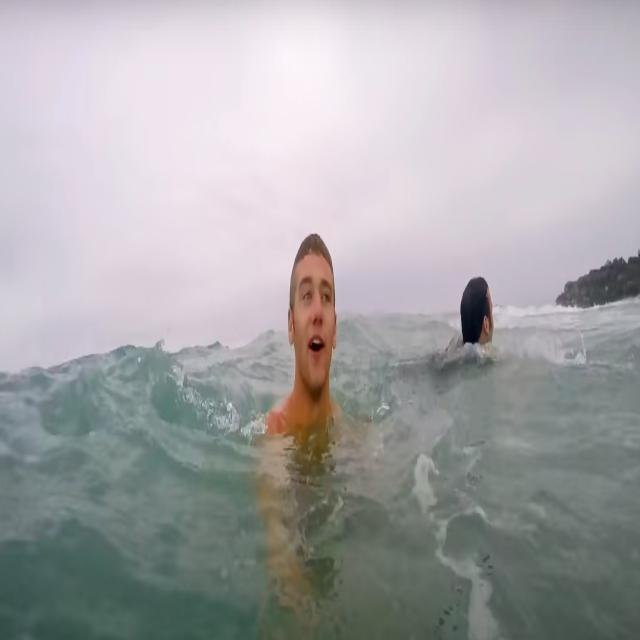Out of Water: (274, 220, 348, 418), (456, 257, 496, 370)
